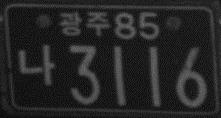1: (111, 43, 129, 108), (147, 44, 162, 108)
3: (67, 42, 99, 105)
5: (137, 10, 159, 40)
6: (176, 47, 207, 110)
8: (113, 11, 136, 39)
광주_O: (58, 10, 109, 37)
나: (17, 44, 56, 88)
